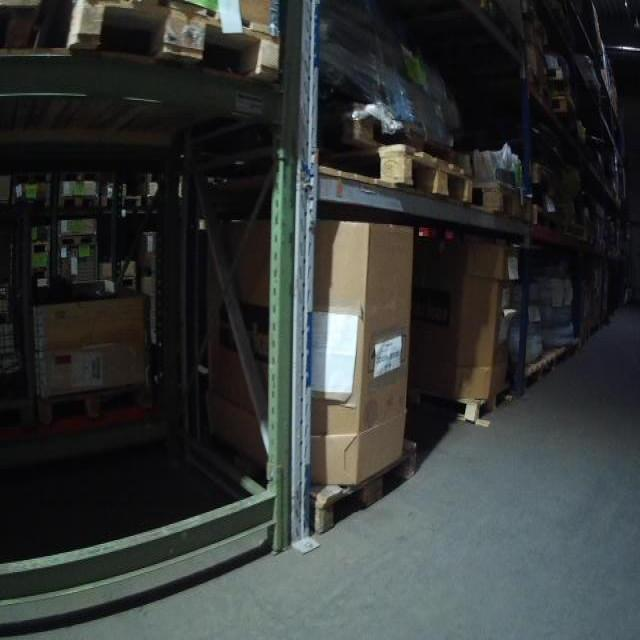pallet: (66, 0, 280, 87), (310, 441, 421, 537), (321, 134, 474, 201), (39, 386, 155, 422), (475, 175, 532, 220), (459, 380, 512, 423), (57, 195, 101, 211), (551, 94, 578, 120), (534, 204, 559, 227), (56, 235, 100, 248), (546, 67, 572, 87)
stillage: (54, 222, 107, 296)
